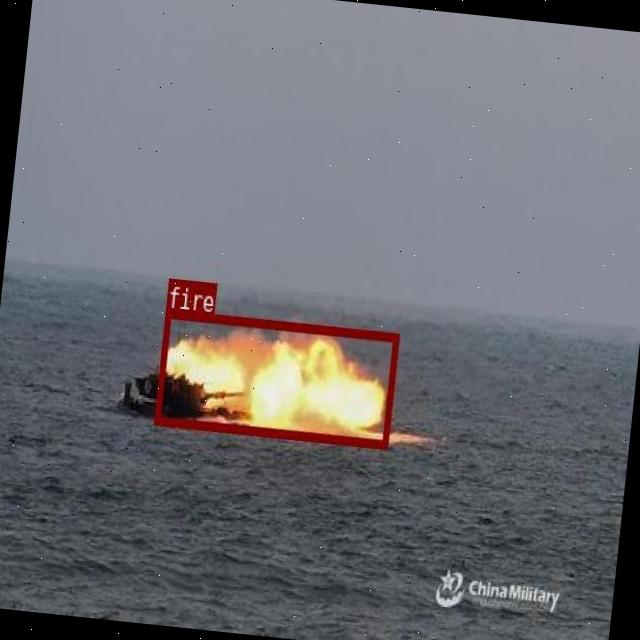fire: (154, 308, 398, 447)
